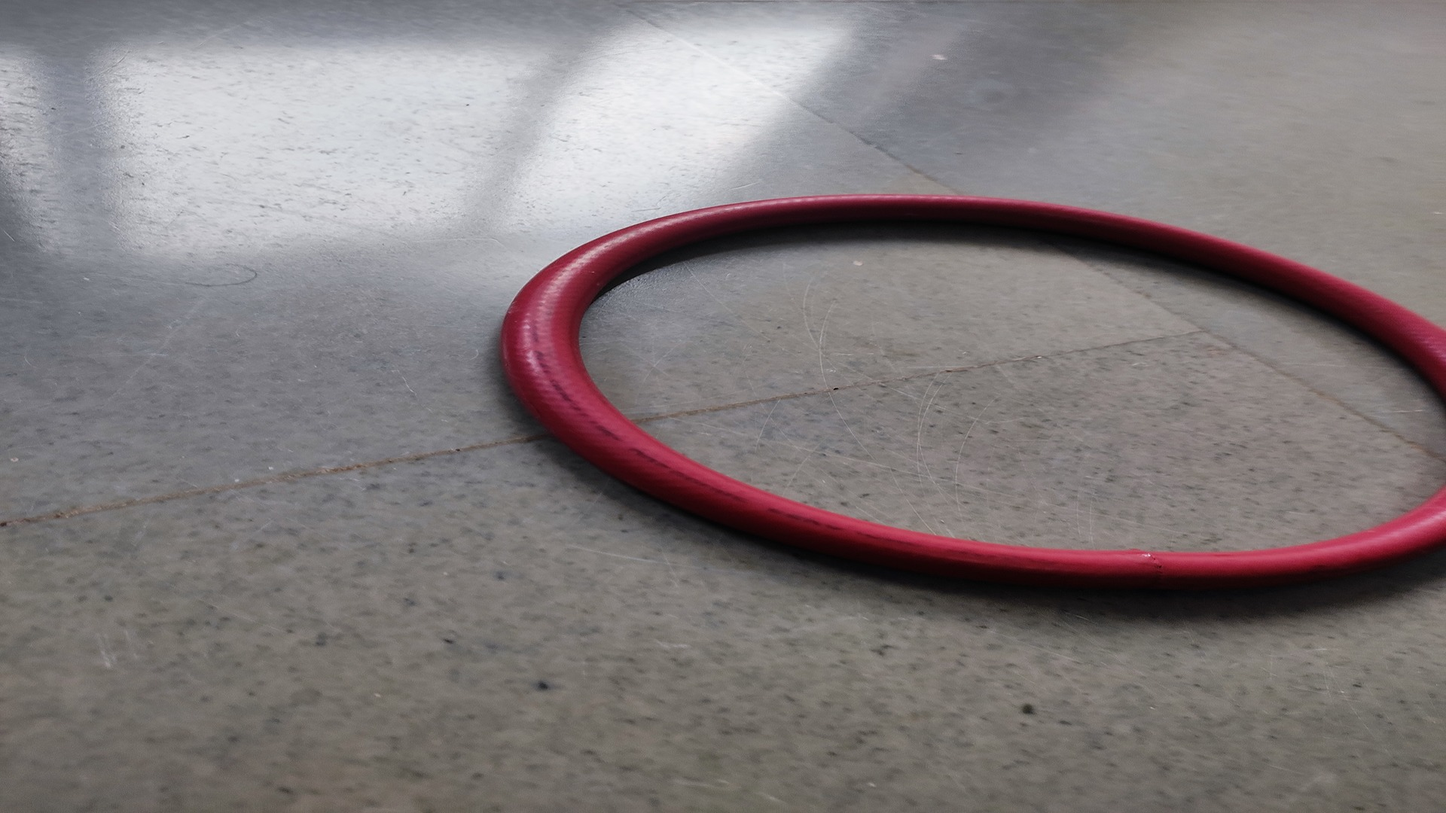Red ring: (496, 192, 1446, 596)
